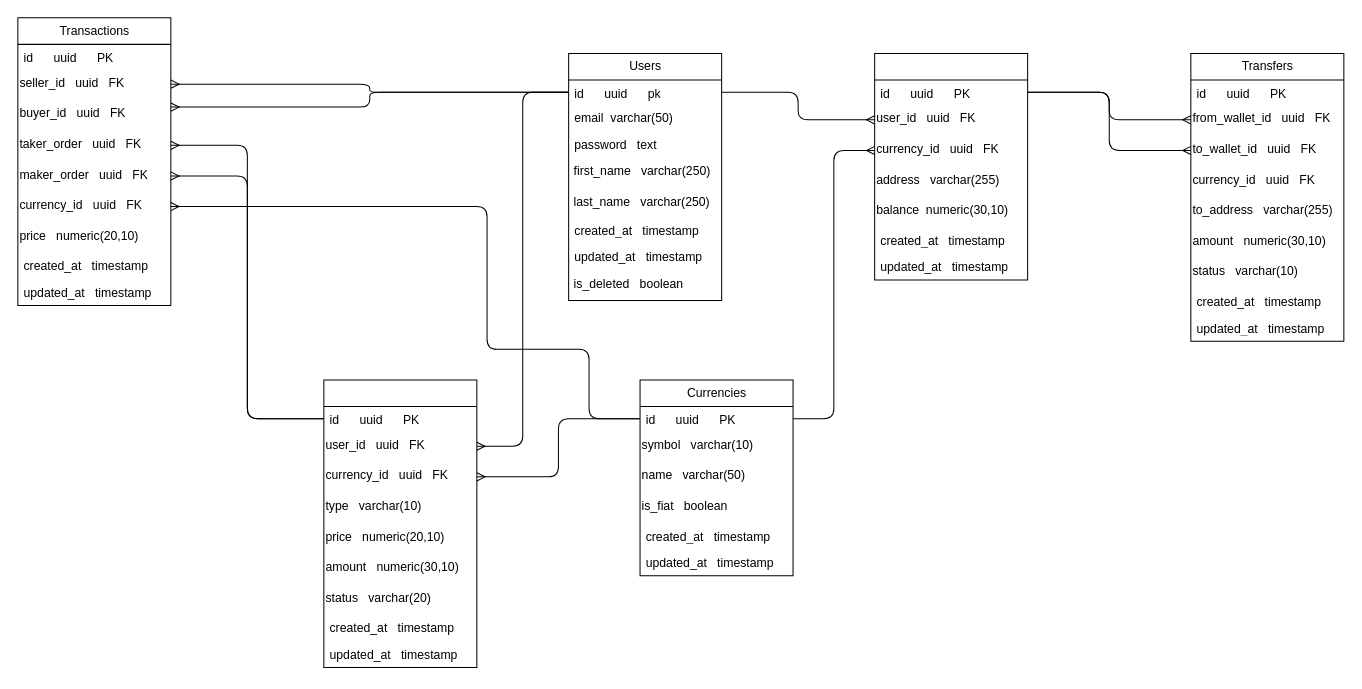
Image size: 1362x689. Some labels were removed from this diagram. Here are the shapes that lost their labels. From the top down, the box of each, then its label:
(874, 53, 1028, 280): Wallets
(323, 379, 477, 668): Orders
